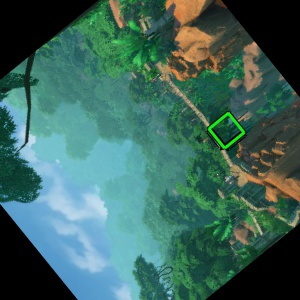square: (207, 111, 248, 151)
